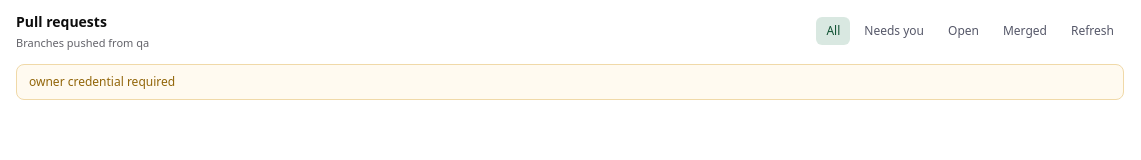
it: explains an empty list and surfaces load errors
Check: the message reads "owner credential required", box top-left (29, 72), bottom-right (175, 90)
Click the button "Refresh" at (1092, 31), box top-left (1061, 17), bottom-right (1124, 45)
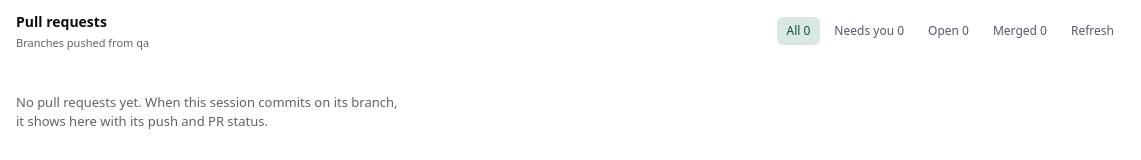
Check: the text "No pull requests yet" is shown, box top-left (16, 92), bottom-right (398, 130)
Check: the message "owner credential required" is gone
